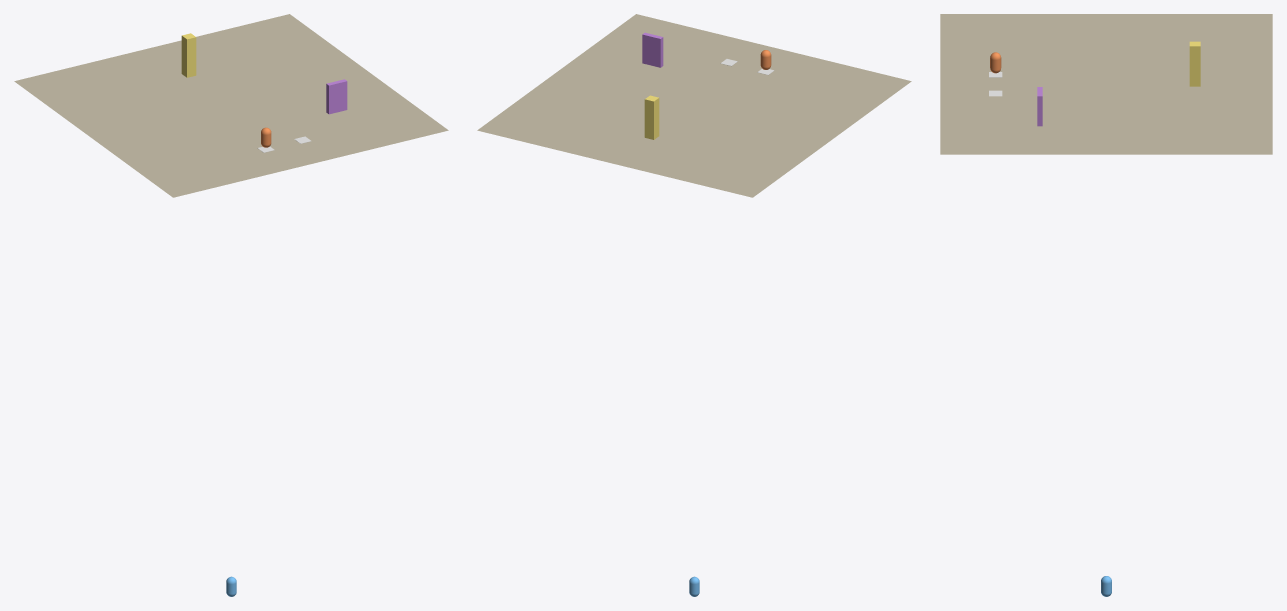
The model's file is level2.glb.
The picture shows the model from 3 angles, left to right: view 1: azimuth 30°, elevation 25°; view 2: azimuth 150°, elevation 25°; view 3: azimuth 270°, elevation 25°; orthographic projection. The views are drawn at different scales.
Visible parts, largest first — view 1: Ground, Exit, Beacon; view 2: Ground, Exit, Beacon; view 3: Ground, Beacon.
Boxes of the visible parts, bbox=[...] form: Ground: bbox=[14, 14, 448, 197]; Exit: bbox=[326, 79, 347, 114]; Beacon: bbox=[181, 33, 196, 77]; Ground: bbox=[477, 14, 911, 197]; Exit: bbox=[642, 32, 663, 67]; Beacon: bbox=[644, 95, 659, 139]; Ground: bbox=[940, 14, 1272, 154]; Beacon: bbox=[1189, 41, 1200, 86].
Size of the model in its own units: 30 by 55 by 30.
